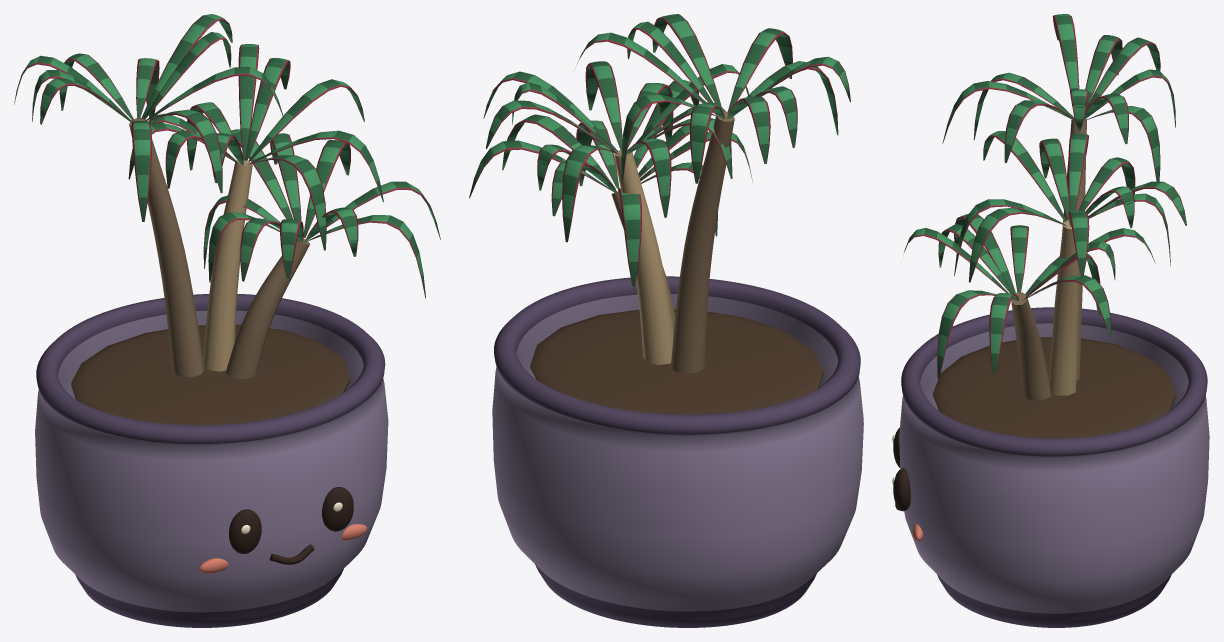
File: dragon-tree-v1.glb
3 renders of one model, left to right at view 1: azimuth 30°, elevation 25°; view 2: azimuth 150°, elevation 25°; view 3: azimuth 270°, elevation 25°, orthographic. The views are drawn at different scales.
Visible parts, largest first — view 1: Wheel-thrown ceramic, Soil, Slender cane, Slender cane.001, Slender cane.002, Narrow burgundy-margin blade.010, Narrow burgundy-margin blade.007, Narrow burgundy-margin blade.018, Narrow burgundy-margin blade.008, Narrow burgundy-margin blade.017, Narrow burgundy-margin blade.015, Narrow burgundy-margin blade.025 (+21 smaller); view 2: Wheel-thrown ceramic, Soil, Slender cane, Slender cane.001, Narrow burgundy-margin blade.012, Narrow burgundy-margin blade.005, Narrow burgundy-margin blade.002, Narrow burgundy-margin blade.013, Narrow burgundy-margin blade.023, Narrow burgundy-margin blade.006, Narrow burgundy-margin blade.016, Narrow burgundy-margin blade (+17 smaller); view 3: Wheel-thrown ceramic, Soil, Slender cane.001, Slender cane.002, Narrow burgundy-margin blade.019, Narrow burgundy-margin blade.004, Narrow burgundy-margin blade.022, Narrow burgundy-margin blade.027, Narrow burgundy-margin blade.001, Narrow burgundy-margin blade.014, Narrow burgundy-margin blade.011, Narrow burgundy-margin blade.009 (+24 smaller).
Part boxes in pixels (box(x1,y1,x2,y2)): Wheel-thrown ceramic: box(35, 294, 388, 627); Soil: box(71, 324, 349, 425); Slender cane: box(129, 118, 204, 377); Slender cane.001: box(203, 160, 252, 371); Slender cane.002: box(225, 238, 309, 379); Narrow burgundy-margin blade.010: box(245, 58, 290, 160); Narrow burgundy-margin blade.007: box(131, 121, 151, 221); Narrow burgundy-margin blade.018: box(238, 44, 259, 160); Narrow burgundy-margin blade.008: box(141, 14, 232, 118); Narrow burgundy-margin blade.017: box(248, 155, 326, 250); Narrow burgundy-margin blade.015: box(248, 79, 364, 161); Narrow burgundy-margin blade.025: box(303, 140, 350, 237); Wheel-thrown ceramic: box(492, 276, 863, 627); Soil: box(530, 309, 823, 414); Slender cane: box(671, 111, 734, 373); Slender cane.001: box(614, 149, 673, 364); Narrow burgundy-margin blade.012: box(585, 61, 622, 150); Narrow burgundy-margin blade.005: box(652, 14, 722, 111); Narrow burgundy-margin blade.002: box(727, 28, 792, 113); Narrow burgundy-margin blade.013: box(562, 145, 620, 242); Narrow burgundy-margin blade.023: box(618, 188, 641, 286); Narrow burgundy-margin blade.006: box(689, 103, 724, 183); Narrow burgundy-margin blade.016: box(626, 138, 671, 217); Narrow burgundy-margin blade: box(627, 21, 714, 105); Wheel-thrown ceramic: box(899, 307, 1209, 627); Soil: box(933, 337, 1175, 438); Slender cane.001: box(1049, 220, 1078, 395); Slender cane.002: box(1011, 292, 1051, 400); Narrow burgundy-margin blade.019: box(1039, 138, 1069, 220); Narrow burgundy-margin blade.004: box(1052, 14, 1079, 90); Narrow burgundy-margin blade.022: box(989, 293, 1018, 374); Narrow burgundy-margin blade.027: box(937, 290, 1015, 378); Narrow burgundy-margin blade.001: box(1085, 37, 1160, 111); Narrow burgundy-margin blade.014: box(983, 131, 1066, 221); Narrow burgundy-margin blade.011: box(1068, 133, 1088, 211); Narrow burgundy-margin blade.009: box(1085, 35, 1122, 109).
Bounding box in the file's own units: 1.9 × 2.64 × 1.53.
